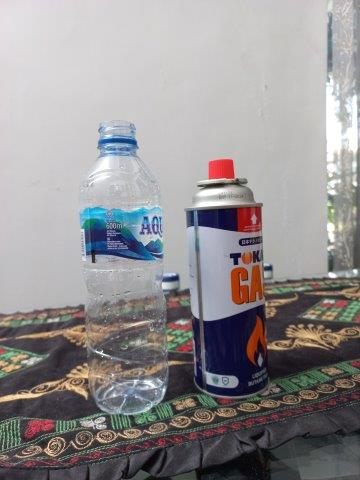botolplastik: (82, 120, 169, 414)
kaleng: (184, 160, 269, 398)
